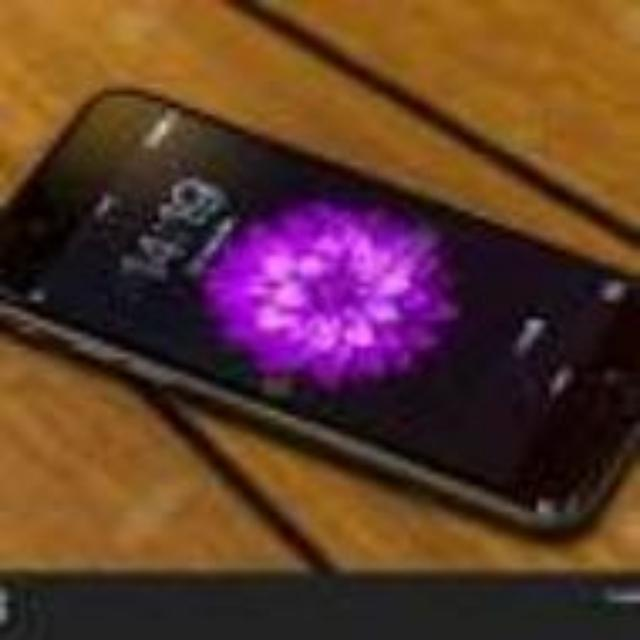phone: (8, 4, 626, 595)
